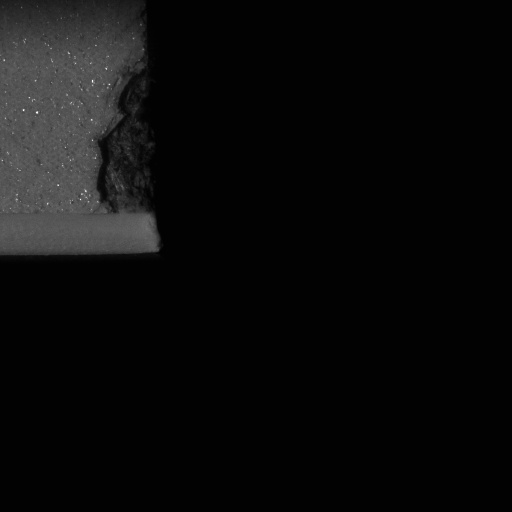bengque: (90, 63, 158, 219)
